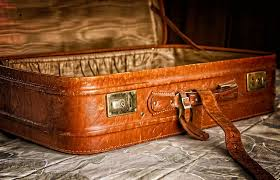suitcase: (1, 1, 278, 154)
